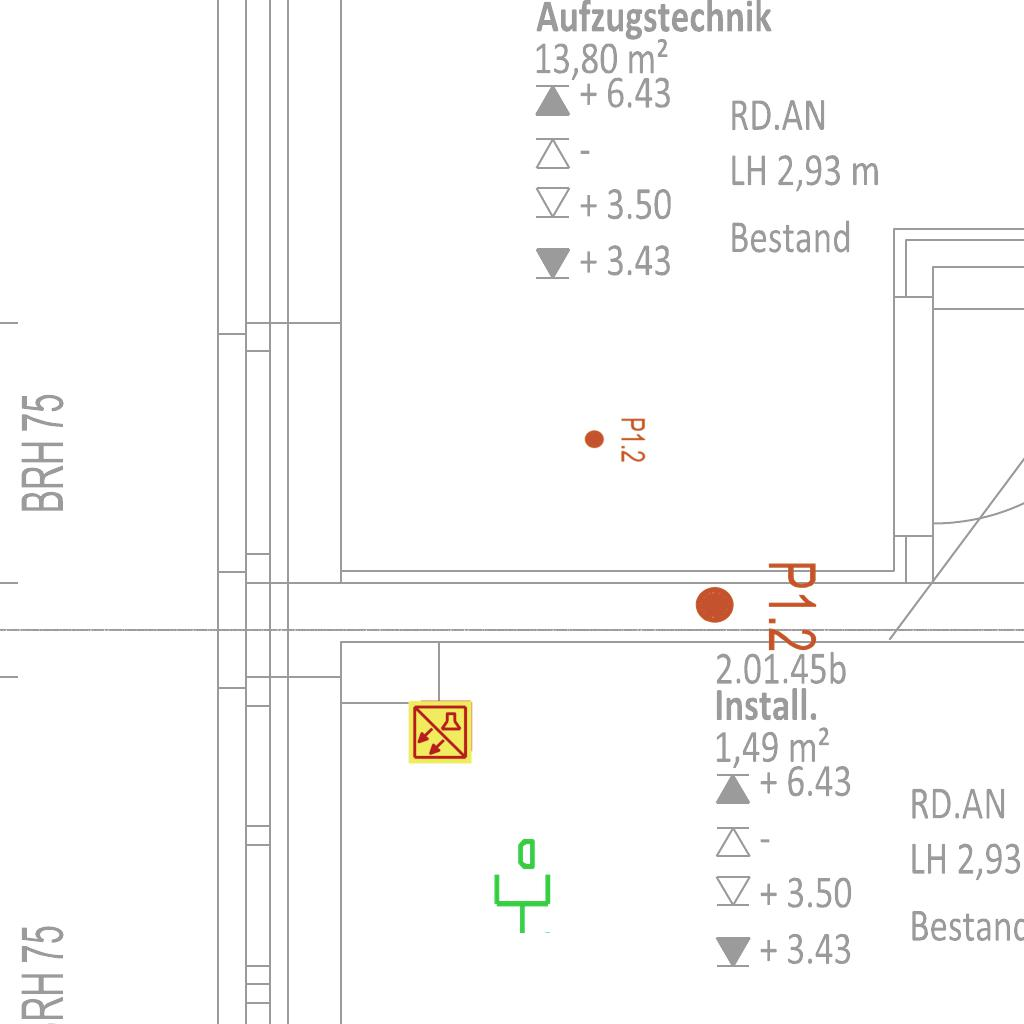Datenanschluss_einfach: (486, 836, 555, 936)
Downlight_LED_Einbauleuchten_Flur: (692, 560, 820, 653), (583, 417, 647, 463)
OKW_Multisensormelder_(Kombination_optischer_Rauch-Kahlenmonoxid_Waerme-Melder): (407, 699, 473, 765)
